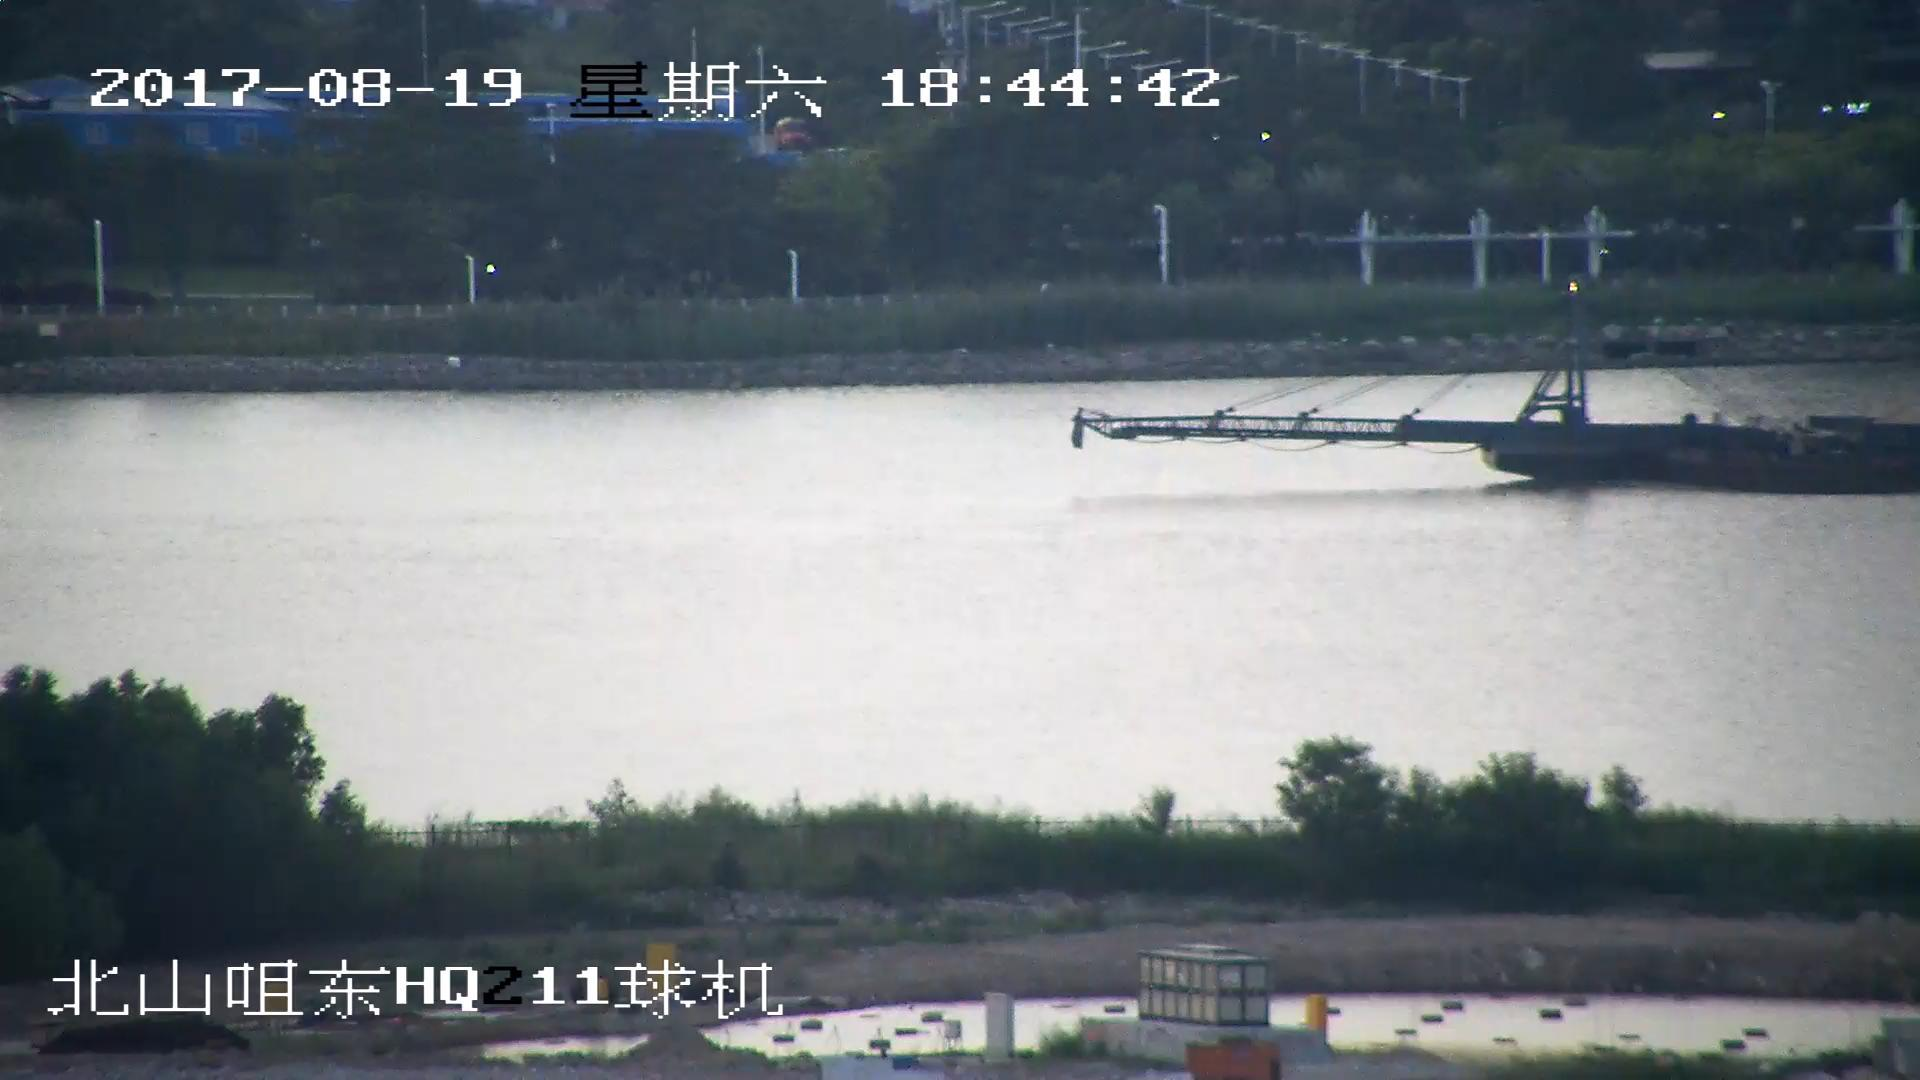Ship: (1072, 287, 1920, 500)
